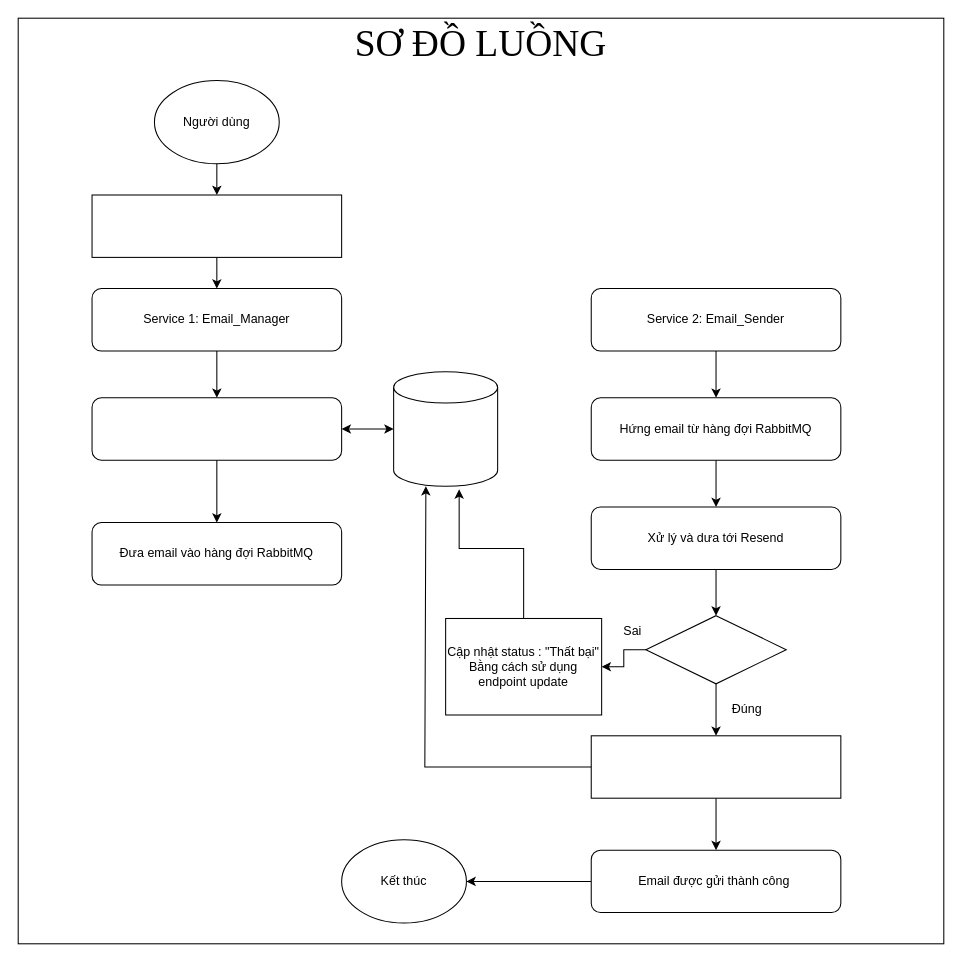
This 962x962 diagram has some shape labels left out. Each missing label, with the centre of its shape:
Cập nhật status : "Thành công" Bằng cách sử dụng endpoint update: (x=715, y=766)
Lưu trữ email: (x=216, y=428)
Nhập và yêu cầu gửi sử dụng endpoint create: (x=216, y=225)
PostgreSQL: (x=445, y=428)
